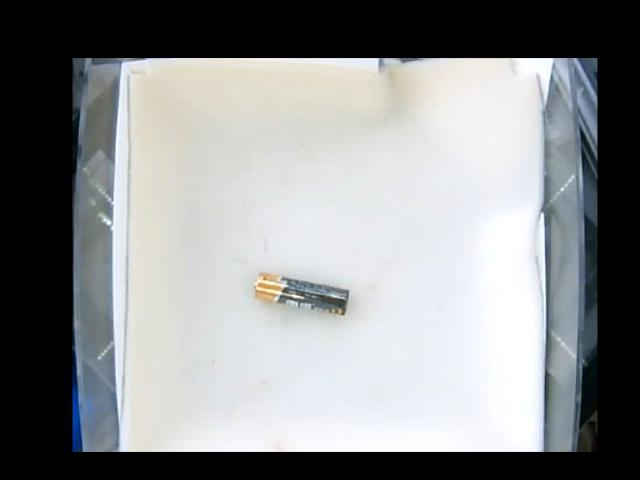Battery: (252, 273, 349, 318)
